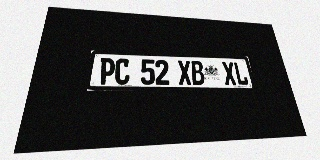2: (155, 60, 169, 85)
5: (141, 59, 155, 85)
B: (190, 61, 205, 85)
C: (114, 58, 130, 85)
L: (233, 62, 249, 85)
P: (98, 58, 115, 85)
X: (177, 60, 192, 85), (221, 62, 237, 85)
